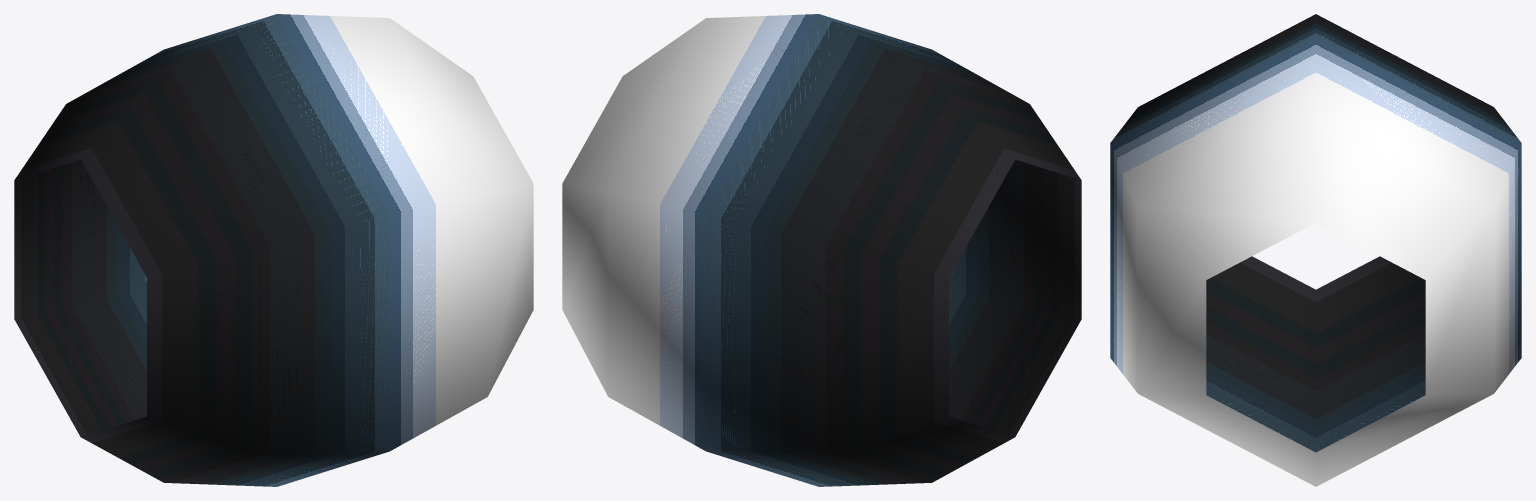
The model's file is ItemBoxAirShell.obj.
3 renders of one model, left to right at view 1: azimuth 30°, elevation 25°; view 2: azimuth 150°, elevation 25°; view 3: azimuth 270°, elevation 25°, orthographic. The views are drawn at different scales.
Size of the model in its own units: 17.38 by 20 by 17.32.
1 material, 1 textured.
